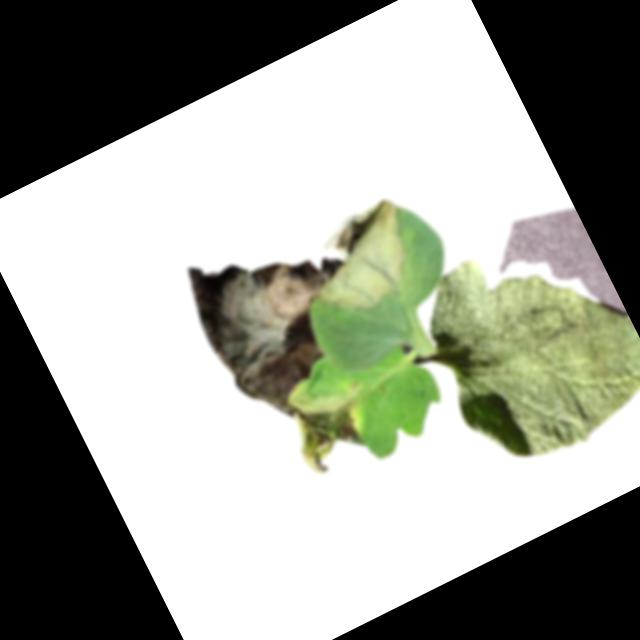Late_blight: (173, 202, 397, 438), (289, 189, 434, 328), (280, 380, 370, 478)
